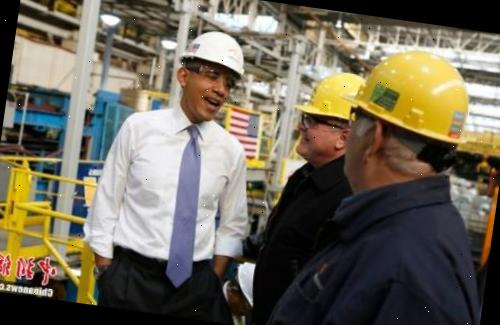helmet: (352, 40, 480, 153), (293, 66, 373, 130), (176, 27, 250, 78)
no_wear: (90, 114, 262, 278)
wear: (306, 199, 485, 325)
